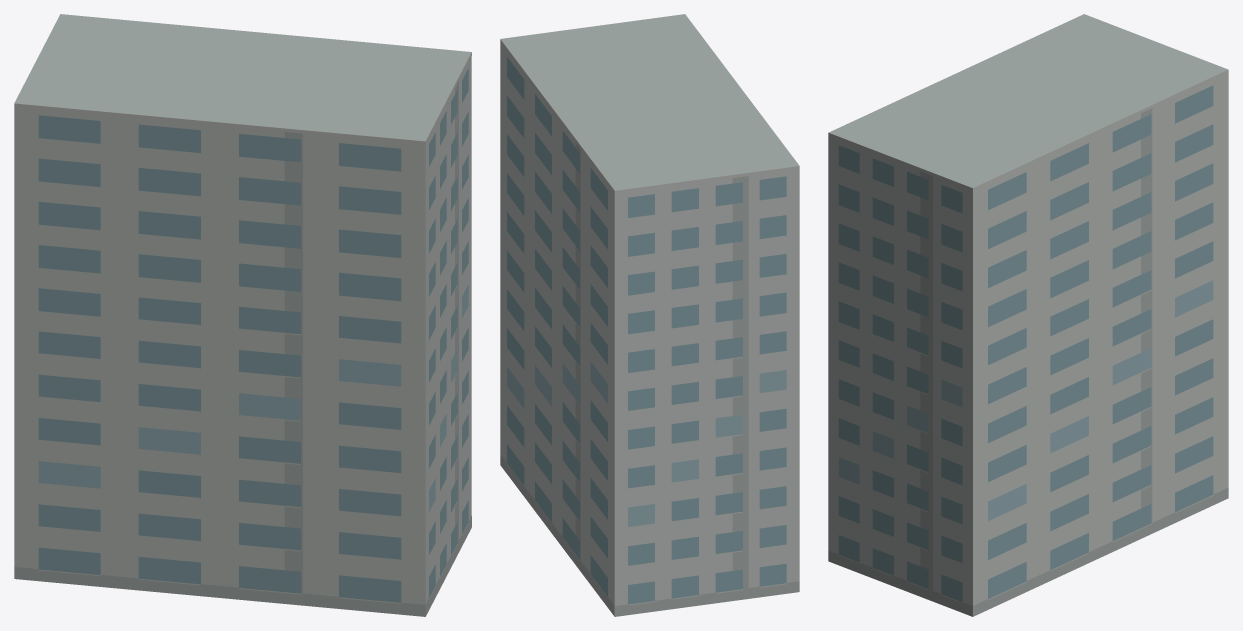
File: residential-321cbbc6-8cce-476a-99ab-8d5bcdc6f4a5.glb
3 views of the same model, side by side, from view 1: azimuth 30°, elevation 25°; view 2: azimuth 150°, elevation 25°; view 3: azimuth 270°, elevation 25° (orthographic). The views are drawn at different scales.
Parts seen in each view (by area): view 1: residential-321cbbc6-8cce-476a-99ab-8d5bcdc6f4a5.tmp; view 2: residential-321cbbc6-8cce-476a-99ab-8d5bcdc6f4a5.tmp; view 3: residential-321cbbc6-8cce-476a-99ab-8d5bcdc6f4a5.tmp.
Part boxes in pixels (box(x1,y1,x2,y2)): residential-321cbbc6-8cce-476a-99ab-8d5bcdc6f4a5.tmp: box(14, 14, 471, 616); residential-321cbbc6-8cce-476a-99ab-8d5bcdc6f4a5.tmp: box(500, 14, 799, 616); residential-321cbbc6-8cce-476a-99ab-8d5bcdc6f4a5.tmp: box(828, 14, 1228, 616).
Size of the model in its own units: 29.24 by 33.55 by 28.38.
